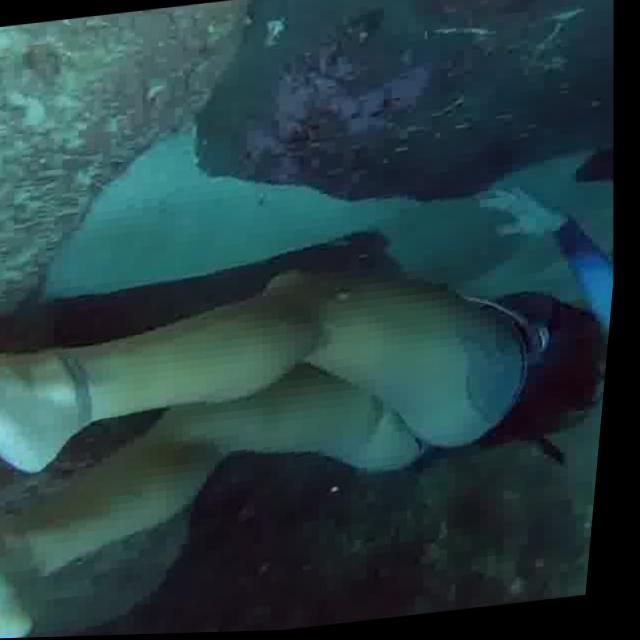human: (0, 172, 627, 640)
